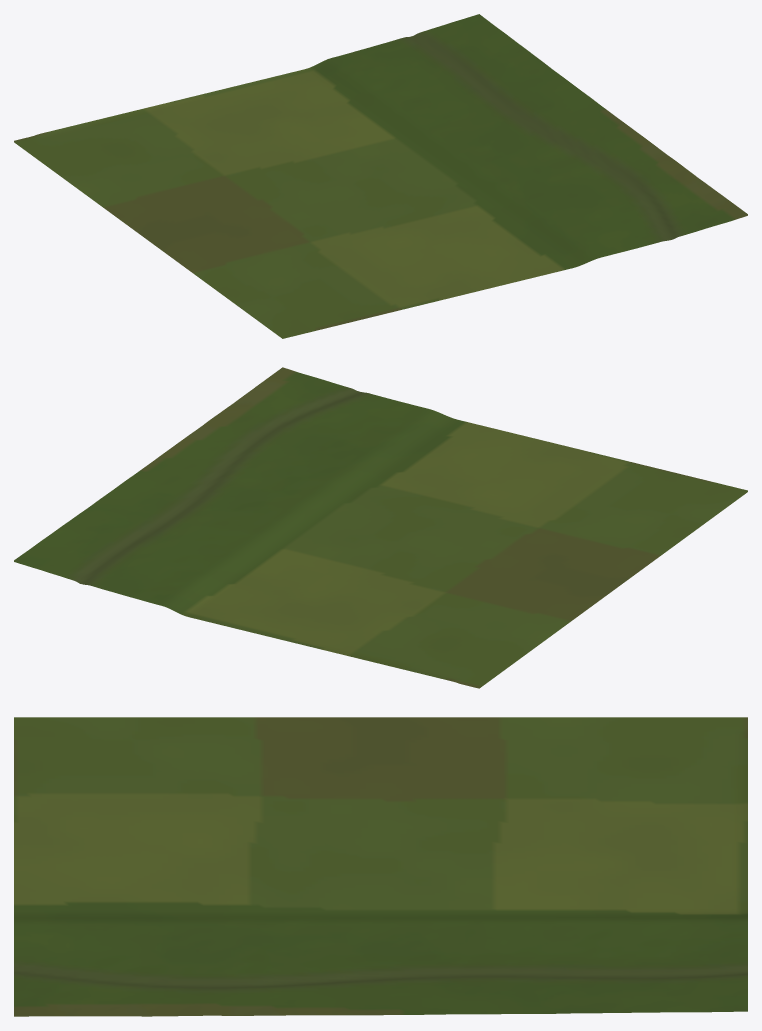
The model's file is land_n_02_02.glb.
The picture shows the model from 3 angles, top to bottom: view 1: azimuth 30°, elevation 25°; view 2: azimuth 150°, elevation 25°; view 3: azimuth 270°, elevation 25°; orthographic projection. The views are drawn at different scales.
Visible parts, largest first — view 1: land_n_02_02; view 2: land_n_02_02; view 3: land_n_02_02.
Boxes of the visible parts, <box> form: land_n_02_02: <box>14,14,747,338</box>; land_n_02_02: <box>14,367,747,688</box>; land_n_02_02: <box>14,717,747,1016</box>.
Size of the model in its own units: 480 by 14.55 by 480.
